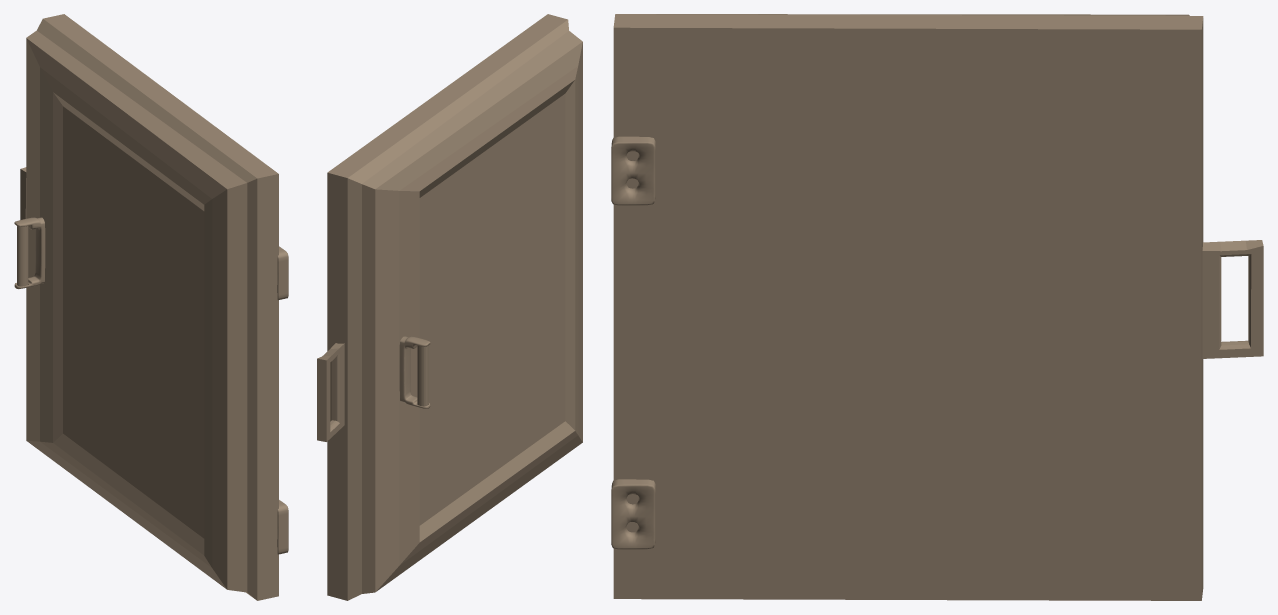
File: Desk_Door.fbx
The picture shows the model from 3 angles, left to right: view 1: azimuth 30°, elevation 25°; view 2: azimuth 150°, elevation 25°; view 3: azimuth 270°, elevation 25°; orthographic projection. The views are drawn at different scales.
Visible parts, largest first — view 1: Desk_door; view 2: Desk_door; view 3: Desk_door.
Part boxes in pixels (bbox=[...]): Desk_door: bbox=[14, 14, 288, 600]; Desk_door: bbox=[317, 14, 582, 600]; Desk_door: bbox=[611, 14, 1263, 600].
Bounding box in the file's own units: 0.128 × 0.6372 × 0.6592.
